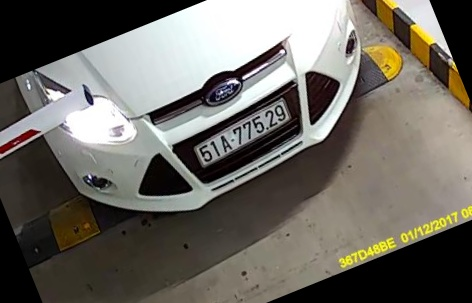plate: (196, 106, 291, 178)
